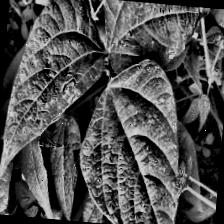ALS: (0, 0, 115, 188), (79, 68, 191, 224), (98, 0, 203, 76)
